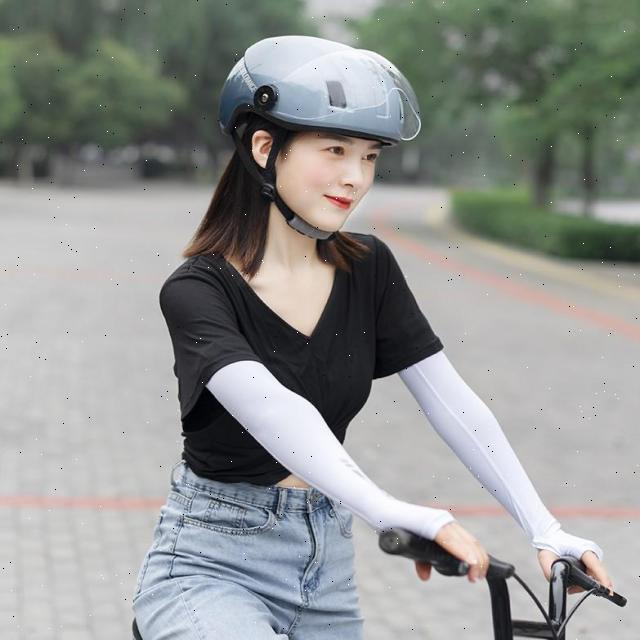helmet: (224, 36, 424, 244)
